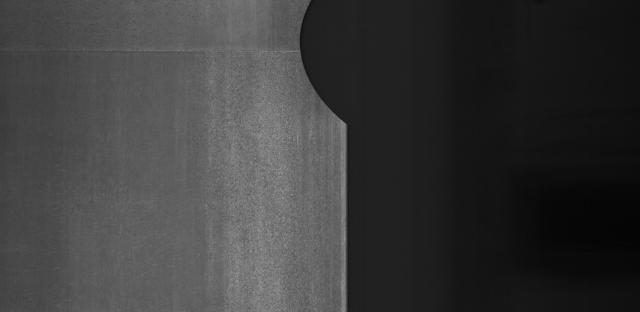crescent_gap: (284, 3, 369, 140)
welding_line: (0, 42, 302, 64)
